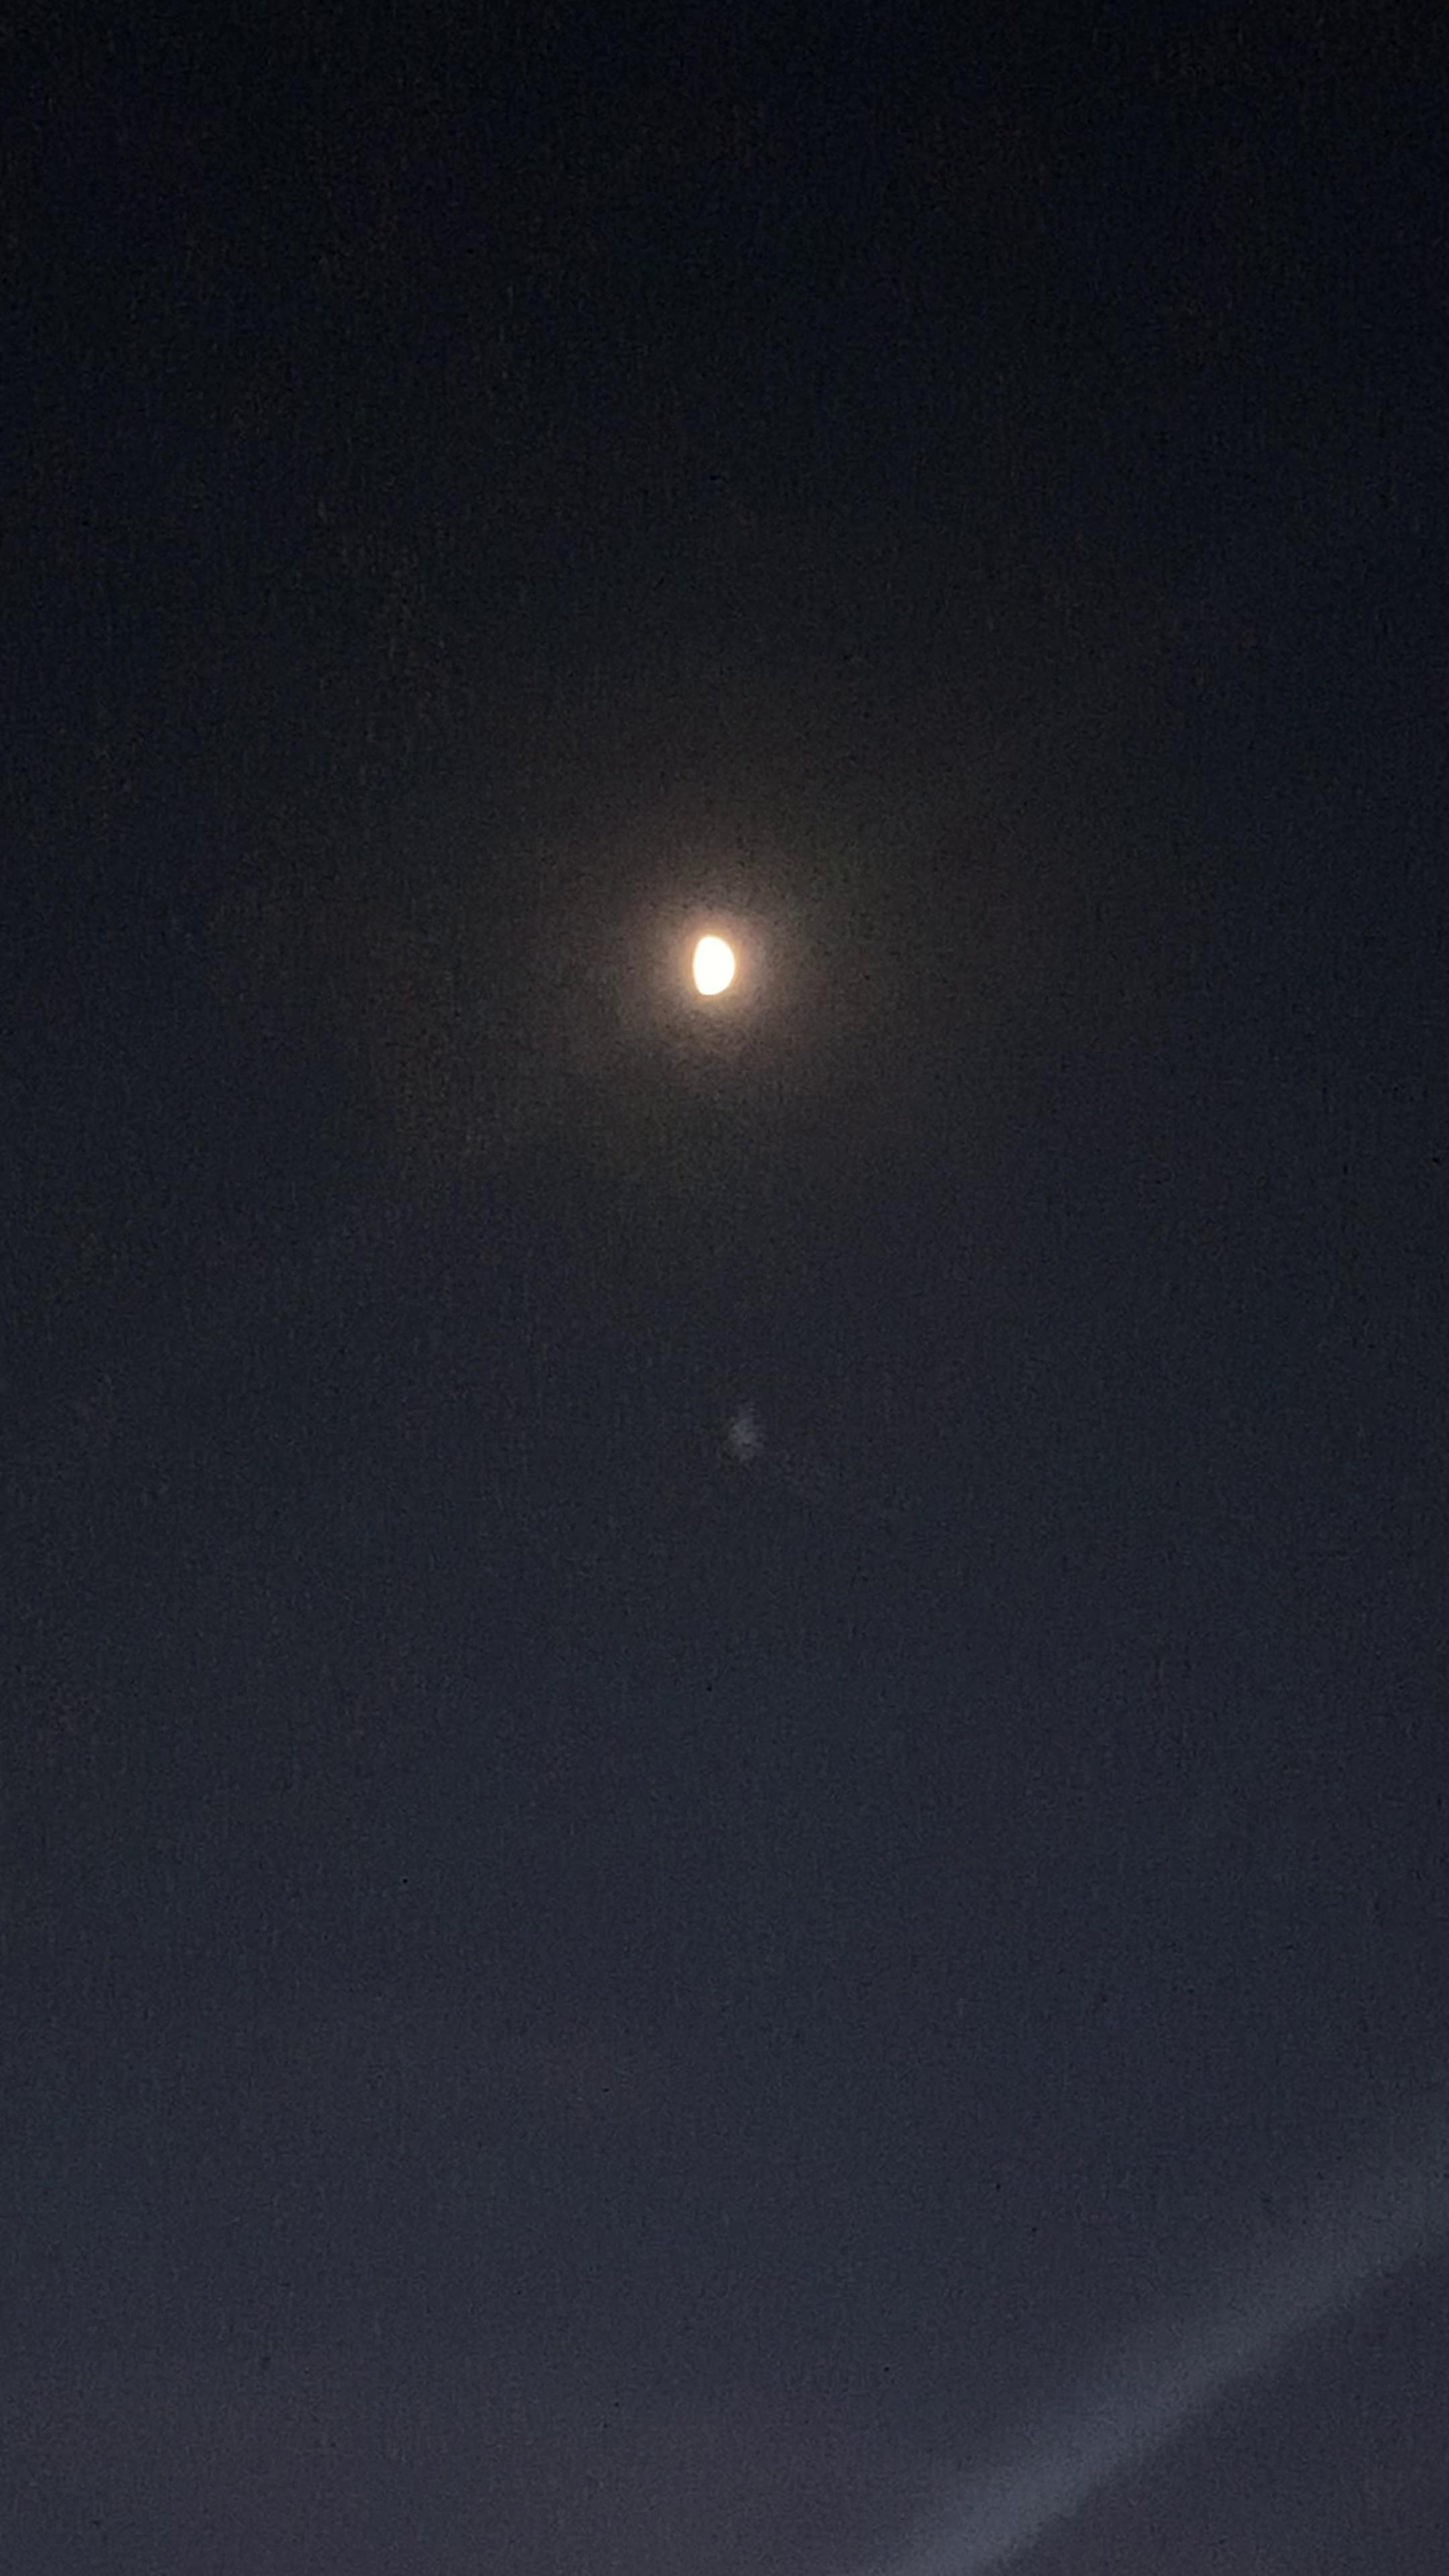moon: (671, 908, 770, 1024)
